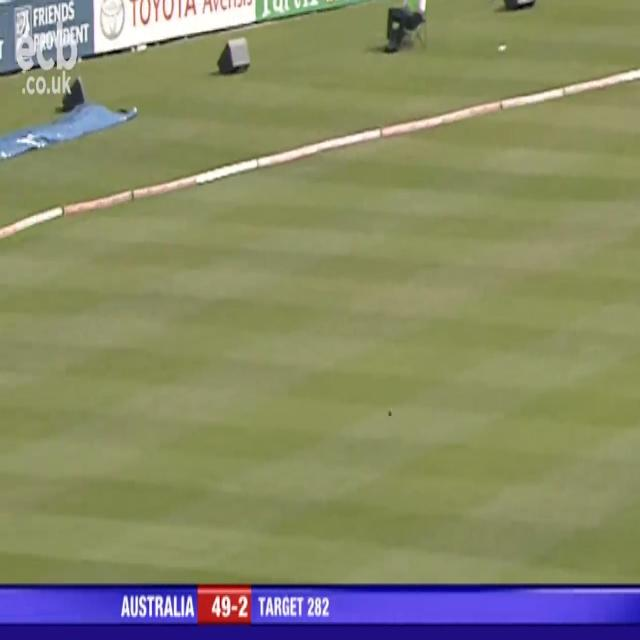ball: (387, 405, 393, 418)
